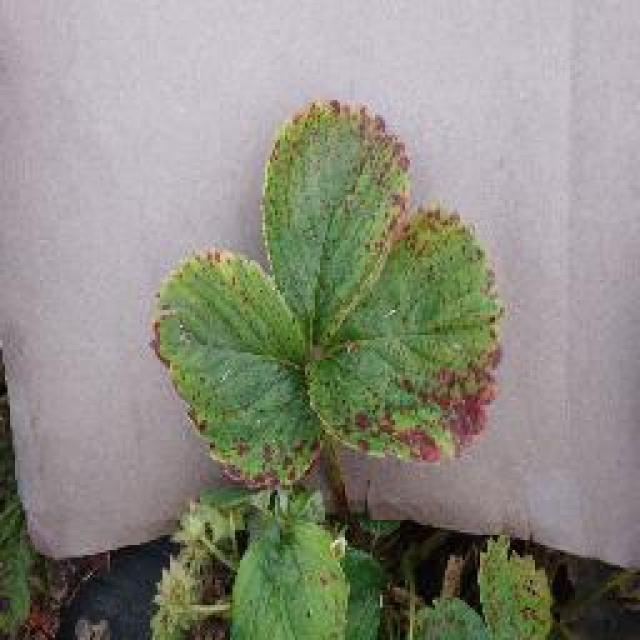Strawberry leaf scorch: (263, 272, 497, 496)
